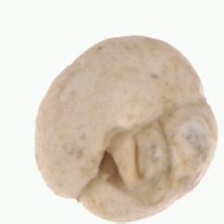L1: (97, 121, 171, 197)
L2: (35, 34, 218, 222)
